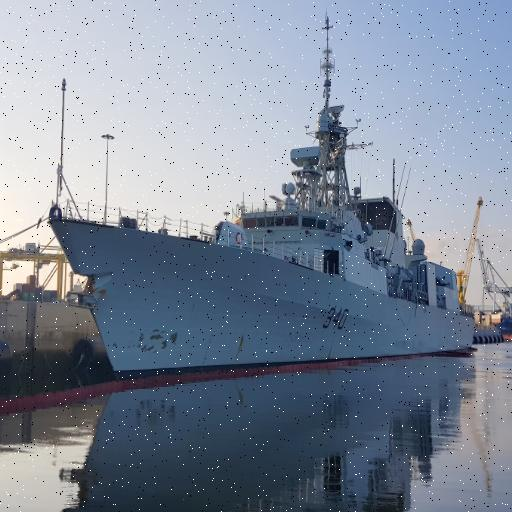Fragata: (46, 1, 481, 383)
